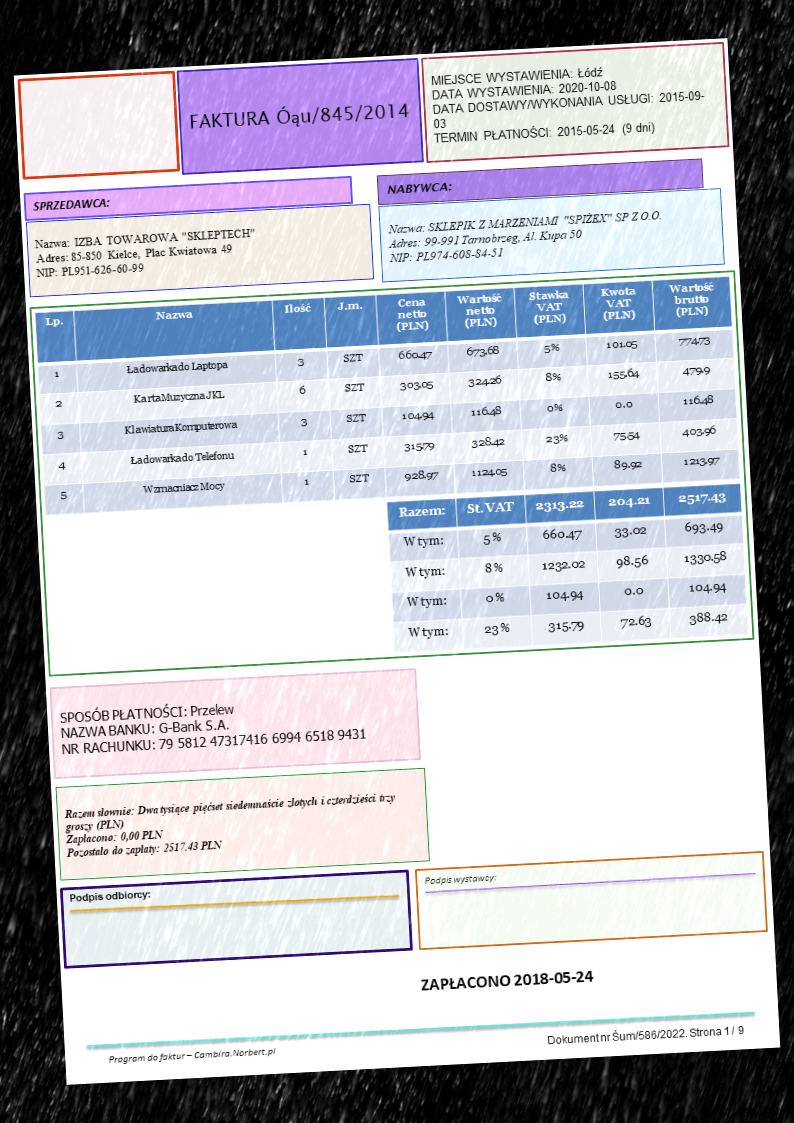Table: (33, 273, 739, 515), (386, 481, 750, 655)
TextBox: (427, 56, 709, 148), (61, 787, 401, 861), (57, 690, 371, 761), (385, 206, 665, 264), (31, 222, 259, 283), (186, 96, 411, 136), (419, 965, 597, 995), (543, 1021, 745, 1047), (105, 1043, 277, 1067), (66, 886, 154, 906), (421, 867, 497, 890), (31, 194, 112, 215), (382, 177, 454, 199)
